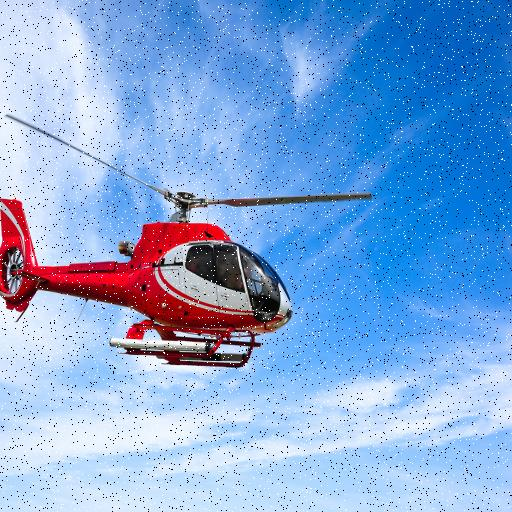helicopter: (1, 106, 384, 386)
